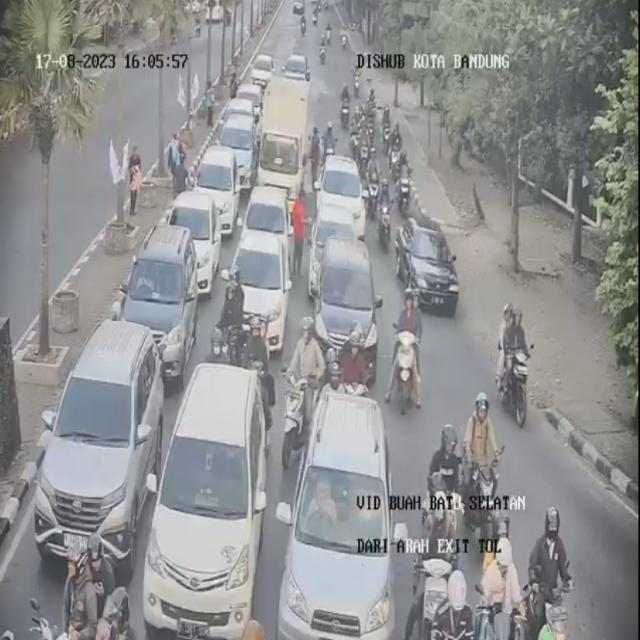cars: (148, 364, 274, 639), (39, 320, 164, 556), (289, 388, 402, 640), (122, 221, 201, 374), (228, 187, 293, 354), (312, 229, 383, 381), (314, 150, 366, 281), (400, 222, 459, 315), (170, 188, 221, 286), (195, 144, 239, 234), (220, 106, 260, 184), (285, 48, 312, 104), (235, 81, 266, 123)
motorcycle: (417, 474, 464, 640), (527, 504, 577, 640), (63, 528, 118, 638), (461, 383, 501, 532), (286, 316, 323, 464), (413, 553, 468, 638), (498, 300, 535, 422), (389, 287, 422, 409), (214, 262, 247, 367), (431, 425, 462, 516), (239, 314, 271, 401), (393, 149, 415, 213), (374, 174, 392, 248), (365, 153, 382, 222), (322, 115, 337, 168), (339, 80, 354, 129), (389, 126, 404, 172), (317, 28, 332, 68), (349, 130, 363, 172), (366, 151, 380, 192), (379, 104, 394, 142), (352, 106, 366, 146), (322, 26, 336, 65), (364, 124, 376, 154), (298, 12, 310, 36), (341, 26, 352, 50)
truck: (257, 89, 310, 217)
